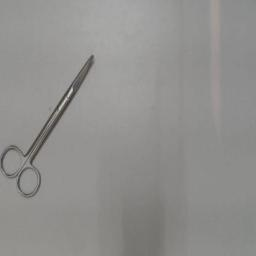Curved Mayo Scissors: (0, 51, 98, 201)
